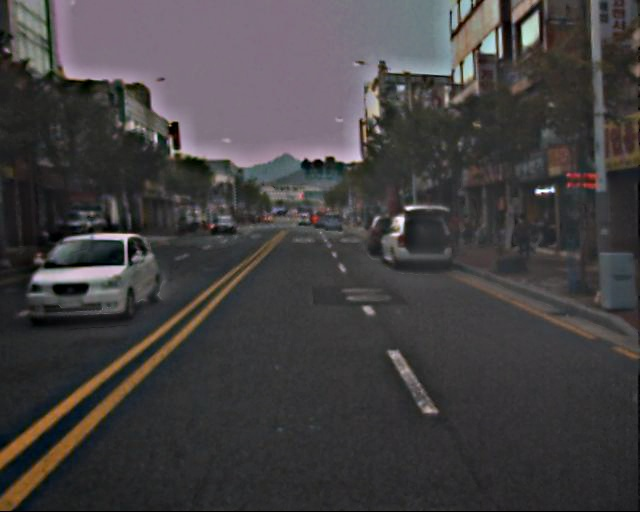person: (512, 212, 535, 268), (446, 210, 463, 251), (460, 212, 474, 247)
